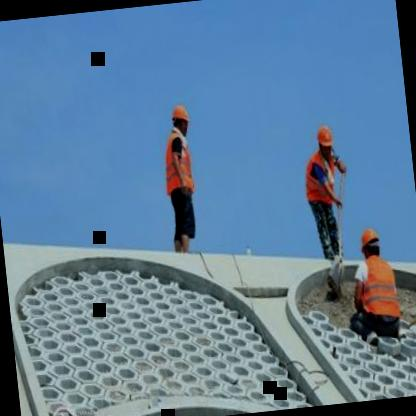helmet: (358, 223, 385, 268), (314, 122, 339, 163), (168, 100, 191, 140)
